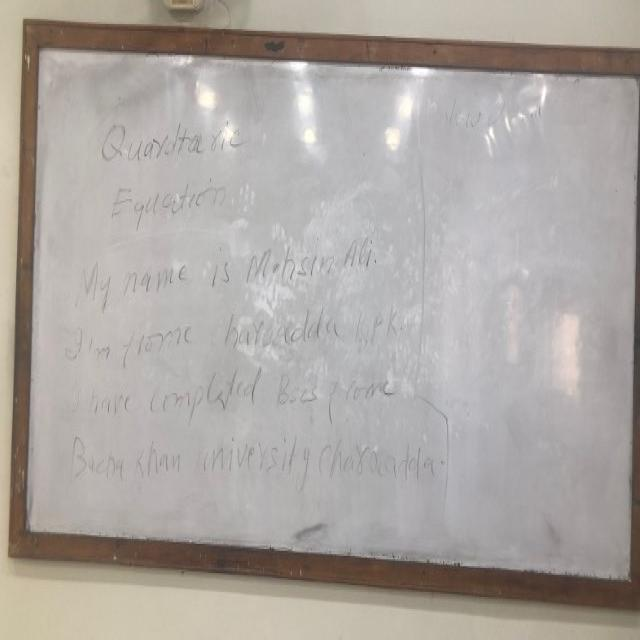White-board: (14, 29, 640, 605)
